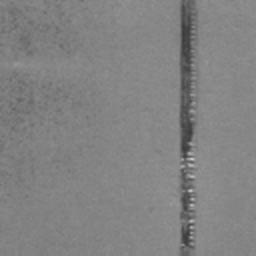Slag inclusion: (175, 0, 200, 256)
